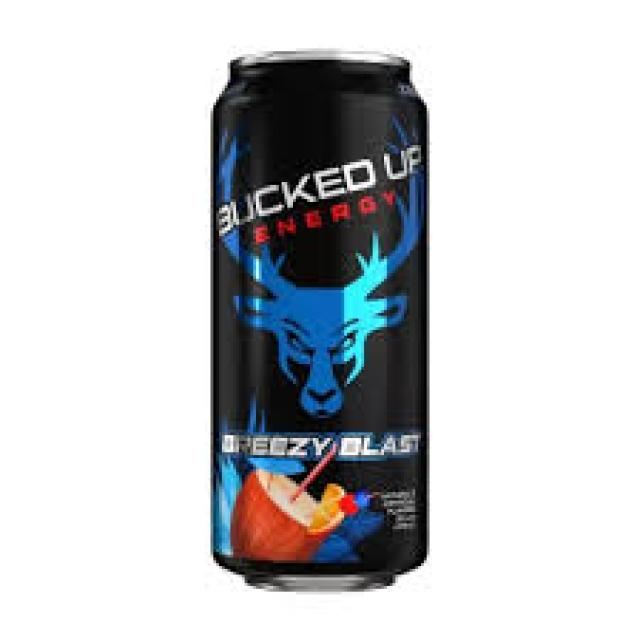Cans: (202, 31, 455, 614)
